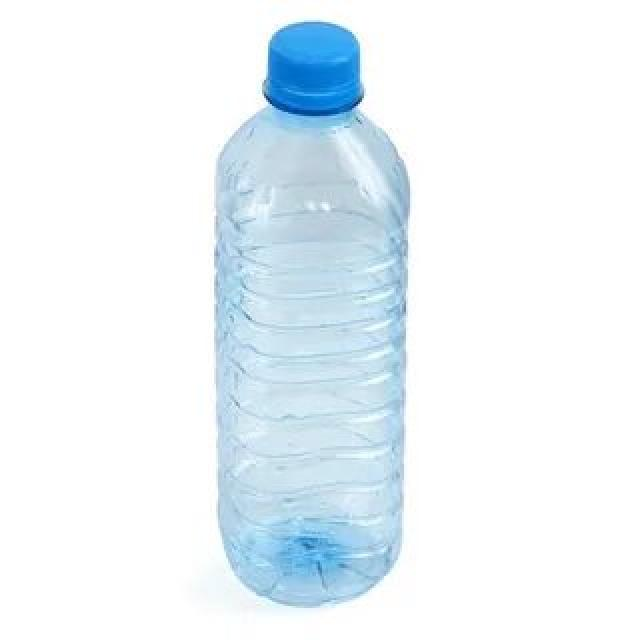blue: (216, 102, 406, 608)
